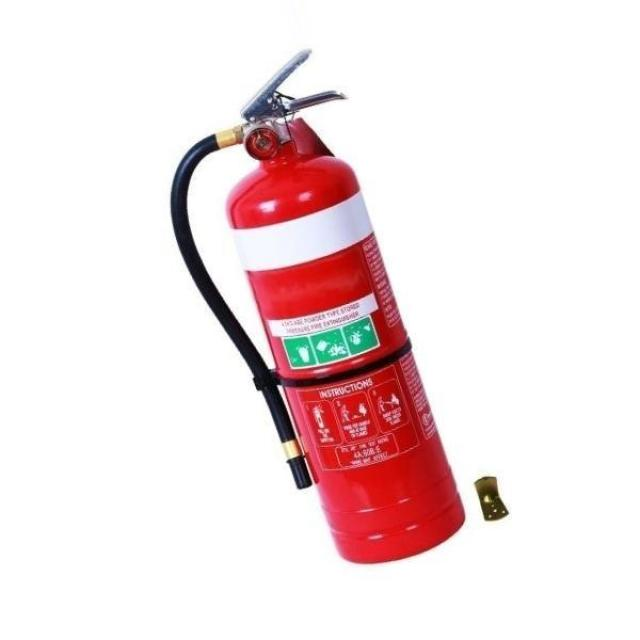fire_extinguisher: (164, 45, 468, 569)
